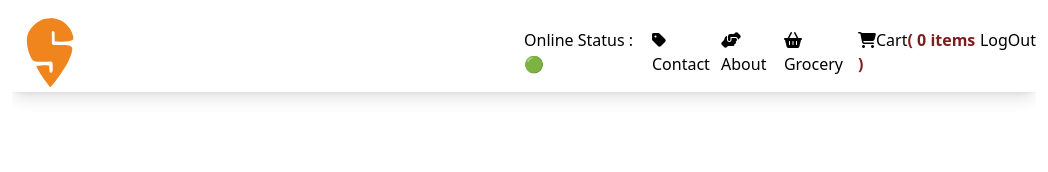
Test: Should change LogOut to LogIn on click
Click the button "LogOut". click: (1008, 40)
box: top-left (980, 28), bottom-right (1036, 52)
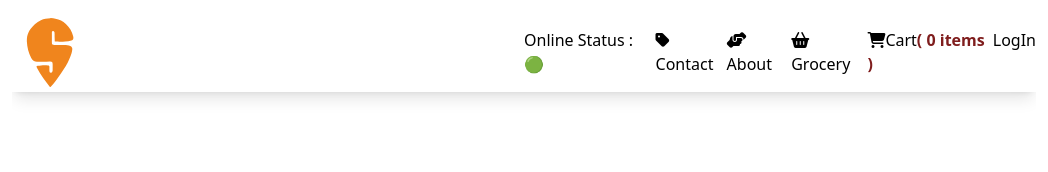
Expected: the button "LogIn" is shown, top-left (993, 28), bottom-right (1036, 52)
